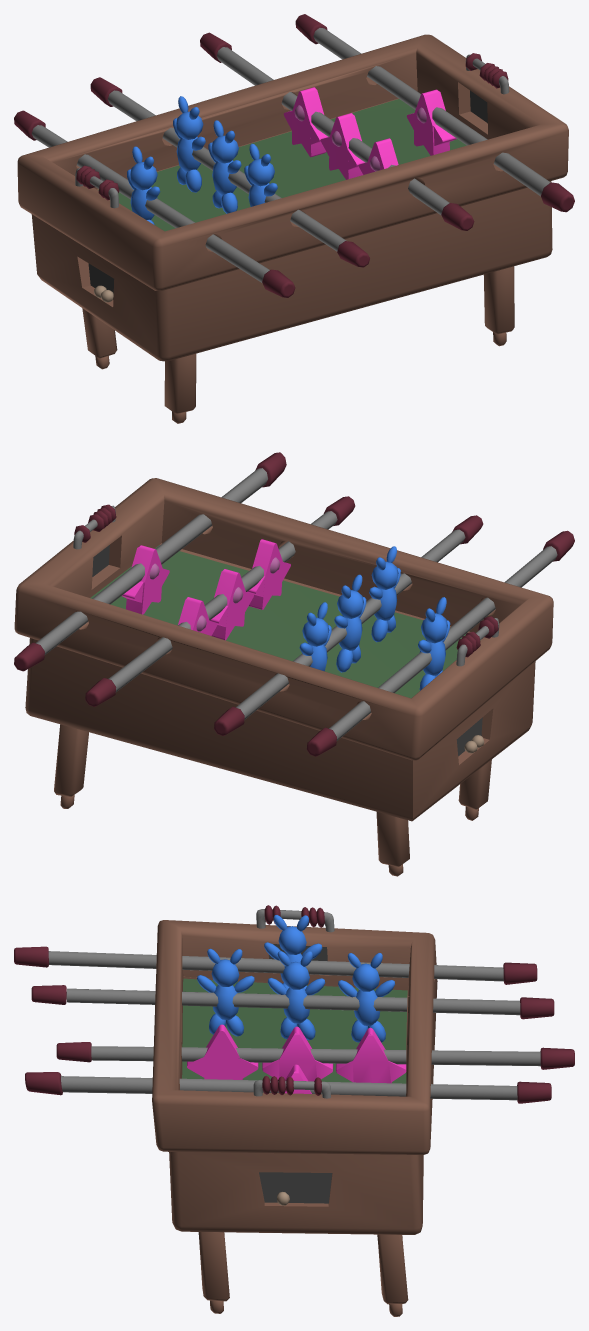
Rendered from props_babyfoot.fbx.
3 renders of one model, top to bottom at view 1: azimuth 30°, elevation 25°; view 2: azimuth 150°, elevation 25°; view 3: azimuth 270°, elevation 25°, orthographic.
Parts seen in each view (by area): view 1: Sphere.058; view 2: Sphere.058; view 3: Sphere.058.
Part boxes in pixels (x1,y1,x2,y2): Sphere.058: (14,14,574,423); Sphere.058: (14,452,574,876); Sphere.058: (14,905,574,1316).
Size of the model in its own units: 2.62 by 3.08 by 1.53.
